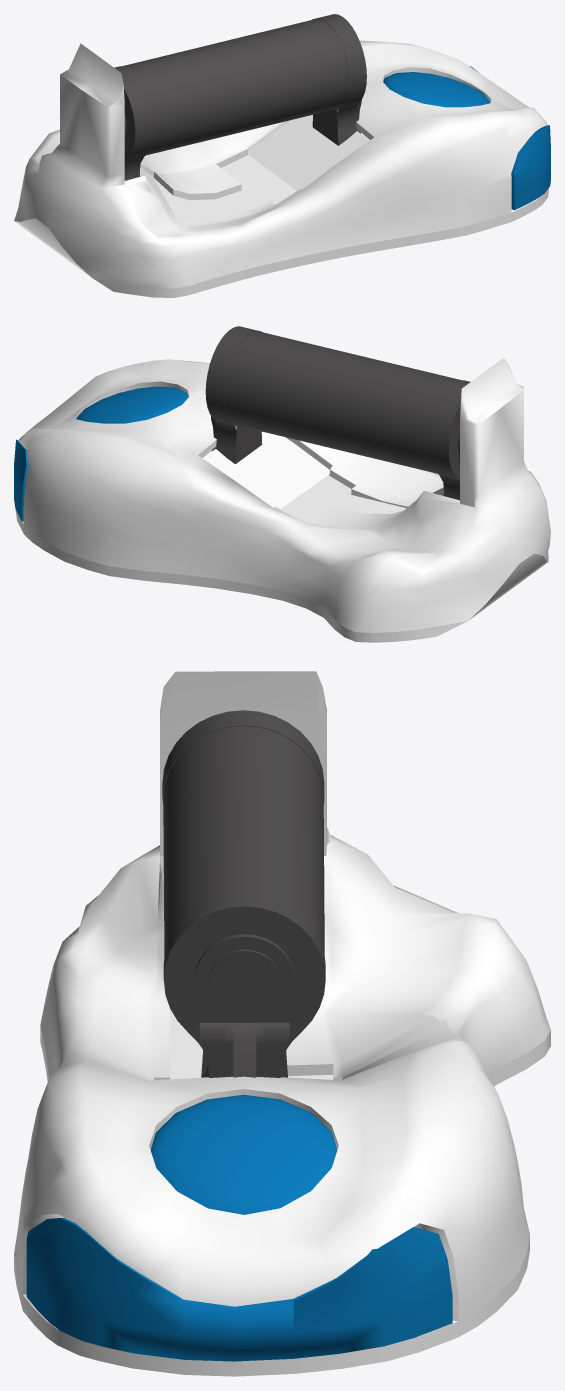
The model's file is LAnkleRoll.dae.
3 views of the same model, one above another, from view 1: azimuth 30°, elevation 25°; view 2: azimuth 150°, elevation 25°; view 3: azimuth 270°, elevation 25° (orthographic). The views are drawn at different scales.
Visible parts, largest first — view 1: LAnkleRoll; view 2: LAnkleRoll; view 3: LAnkleRoll.
Part boxes in pixels (x1,y1,x2,y2): LAnkleRoll: (14,14,550,297); LAnkleRoll: (14,326,550,642); LAnkleRoll: (14,671,550,1376).
Bounding box in the file's own units: 1.6 × 0.9049 × 0.6467.
1 material, 1 textured.
